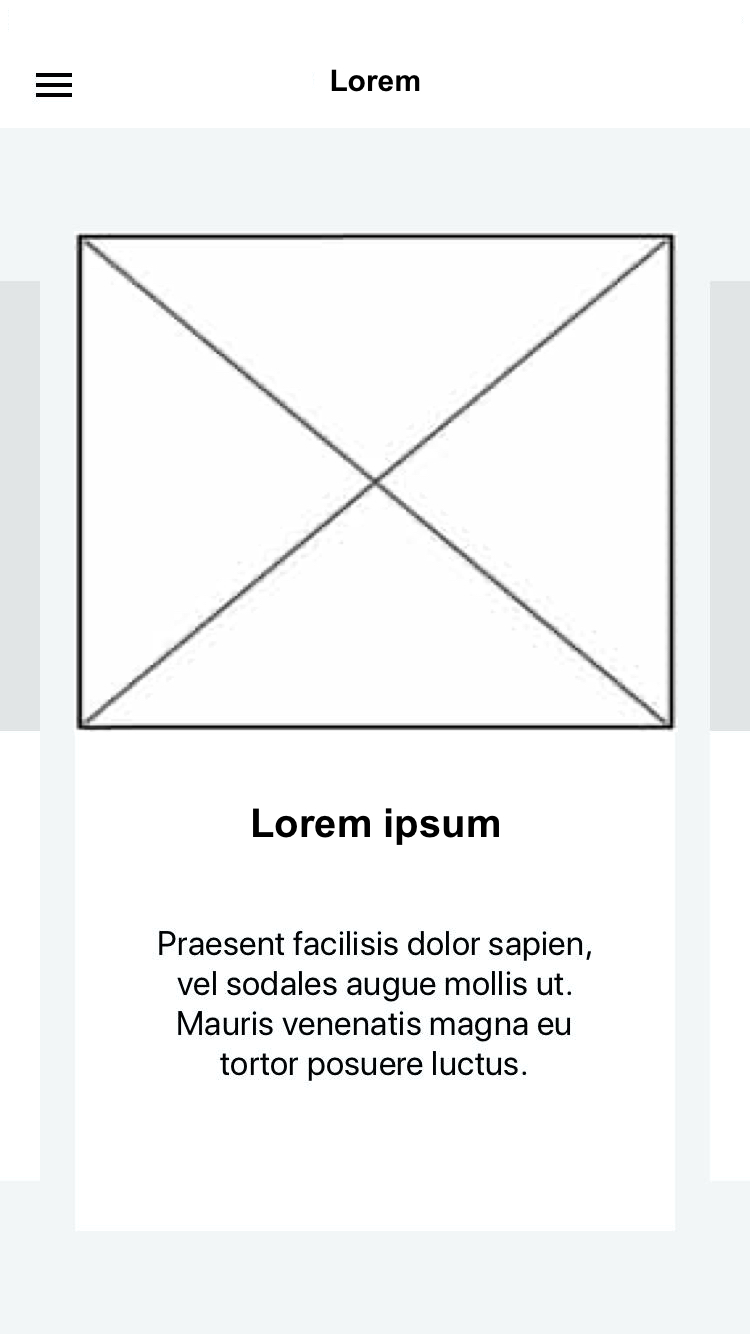Icon: (36, 73, 74, 99)
Image: (76, 232, 676, 731)
Text: (159, 930, 592, 1083), (252, 807, 500, 846), (331, 69, 421, 93)
